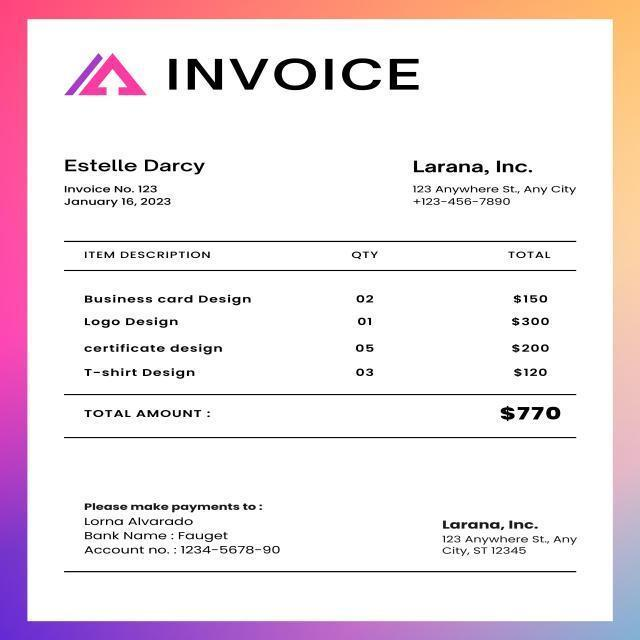ROI: (75, 238, 560, 385), (157, 45, 428, 103), (77, 399, 571, 429), (80, 496, 293, 561), (407, 155, 579, 212), (59, 150, 208, 213), (435, 510, 581, 560)
